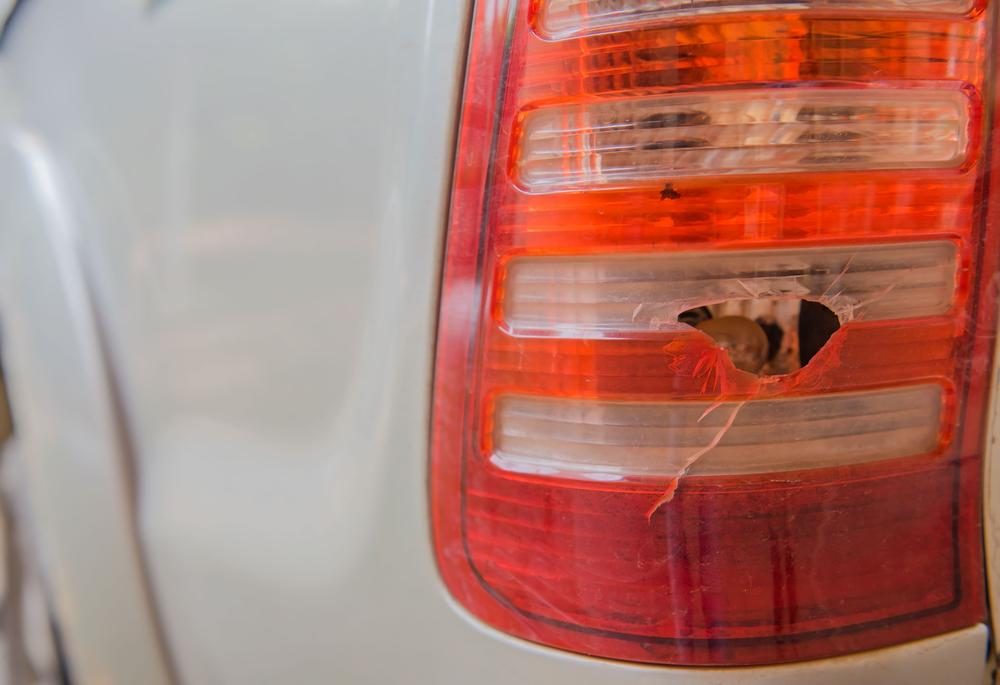lamp broken: (429, 0, 1000, 671)
